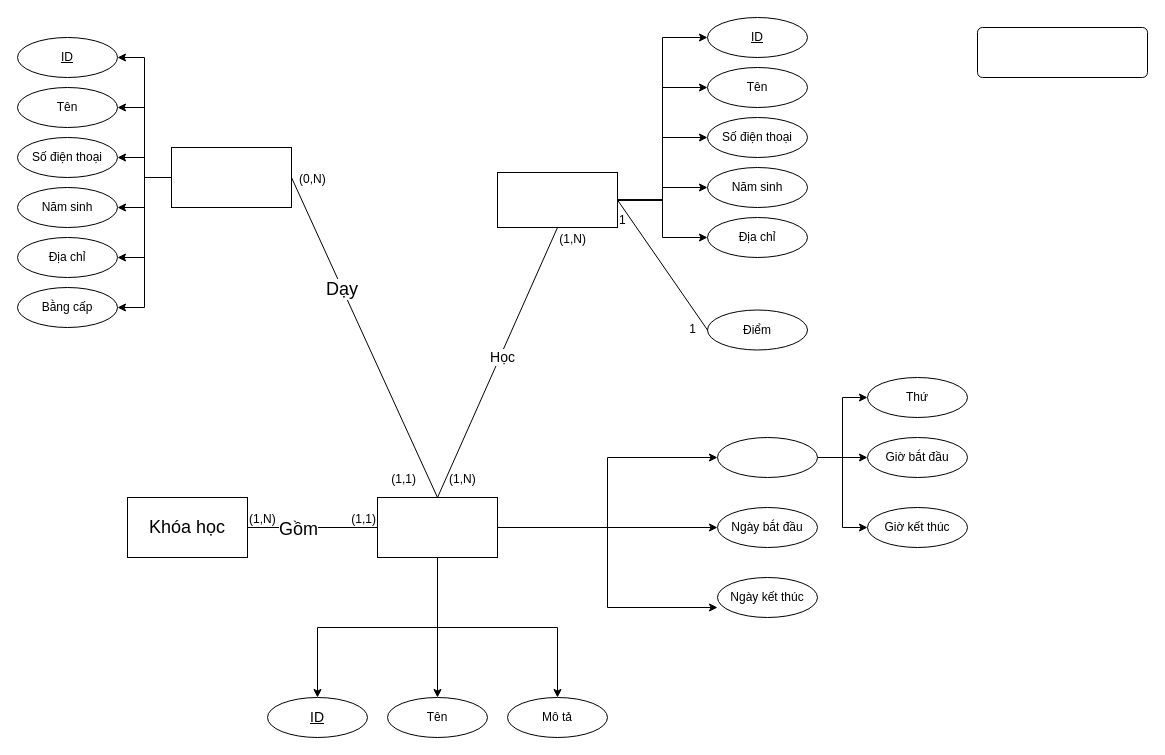
Image size: 1165x755. Some labels were removed from this diagram. The centre of each missing label's shape, as x and y in pixels:
Buổi học trong tuần: (x=767, y=457)
Giáo viên: (x=231, y=177)
Học sinh: (x=557, y=200)
Lớp học: (x=437, y=527)
Trần Nam Phong B20DCVT288: (x=1062, y=52)
